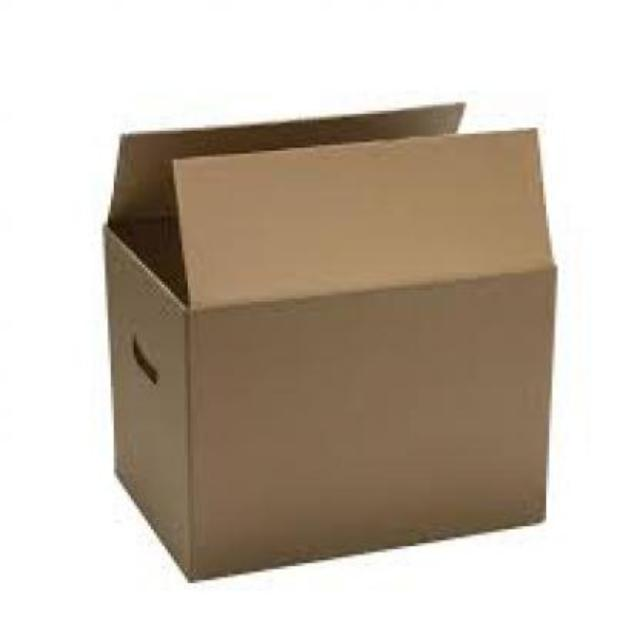cardboard_box: (71, 85, 587, 581)
